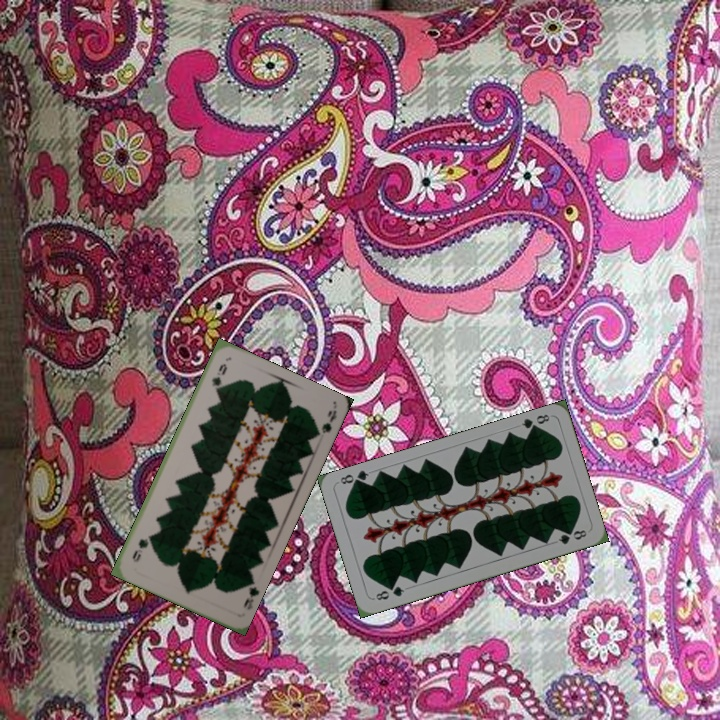G8: (517, 410, 552, 434), (370, 582, 407, 603)
G9: (207, 360, 230, 394), (239, 577, 261, 612)
